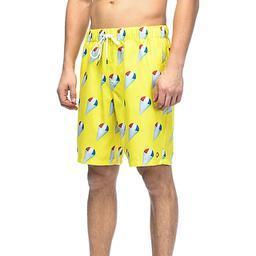short: (76, 24, 175, 168)
